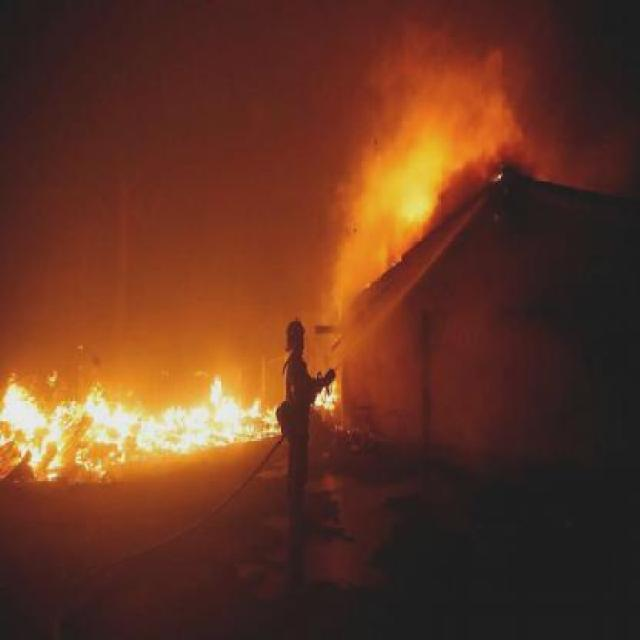Fire: (2, 366, 276, 479), (382, 136, 438, 230), (436, 109, 516, 162), (318, 384, 337, 410)
